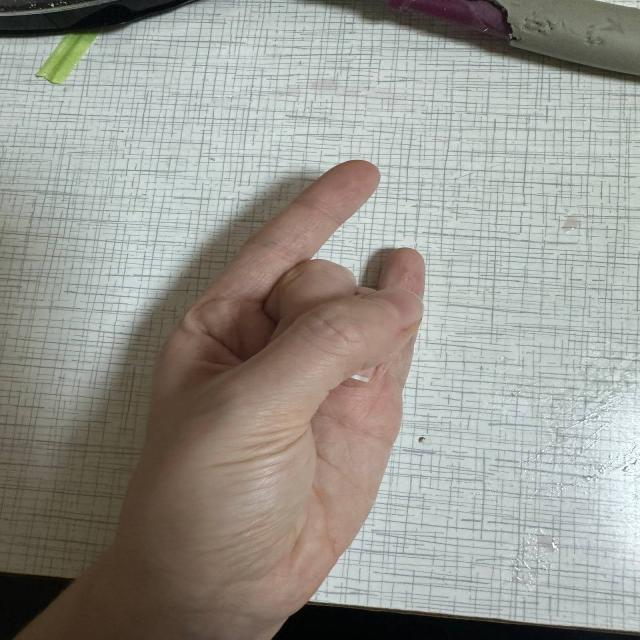y: (153, 150, 444, 580)
